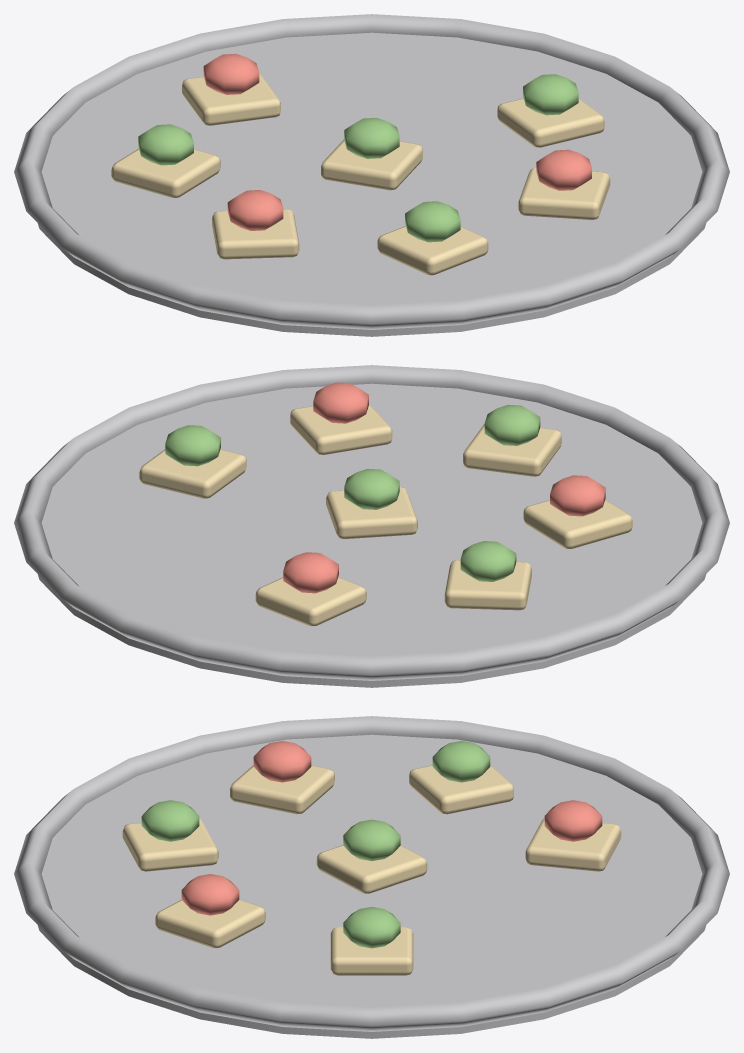
File: canape_tray.glb
3 views of the same model, one above another, from view 1: azimuth 30°, elevation 25°; view 2: azimuth 150°, elevation 25°; view 3: azimuth 270°, elevation 25° (orthographic).
Parts seen in each view (by area): view 1: canape_tray_plate, Canapes; view 2: canape_tray_plate, Canapes; view 3: canape_tray_plate, Canapes.
Part boxes in pixels (x1=…): canape_tray_plate: x1=14, y1=14, x2=729, y2=336; Canapes: x1=111, y1=53, x2=610, y2=275; canape_tray_plate: x1=14, y1=365, x2=729, y2=687; Canapes: x1=139, y1=382, x2=632, y2=626; canape_tray_plate: x1=14, y1=716, x2=729, y2=1038; Canapes: x1=122, y1=741, x2=621, y2=975.
Bounding box in the file's own units: 0.52 × 0.0557 × 0.52.
